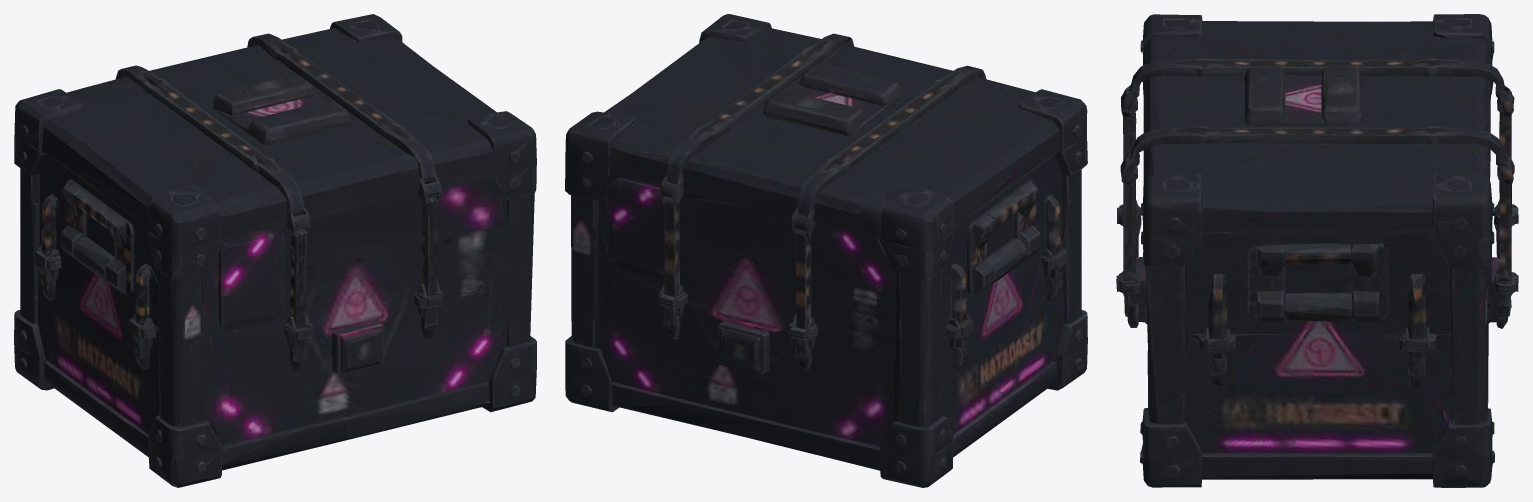
The model's file is mx_supply_crate.glb.
3 views of the same model, side by side, from view 1: azimuth 30°, elevation 25°; view 2: azimuth 150°, elevation 25°; view 3: azimuth 270°, elevation 25° (orthographic). The views are drawn at different scales.
Size of the model in its own units: 1.9 by 1.4 by 1.65.
1 material, 1 textured.
